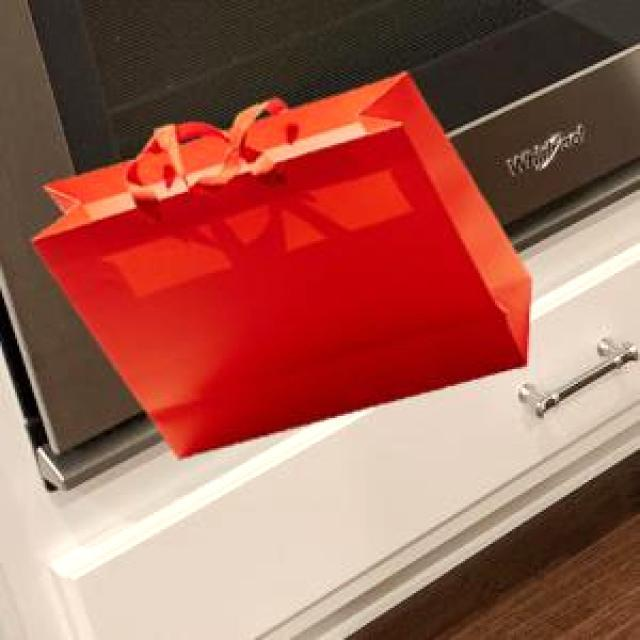Paper_Bag: (29, 70, 528, 456)
